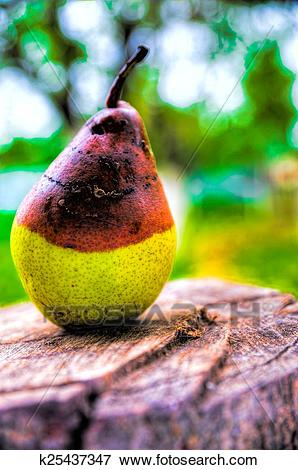damaged_pear: (14, 105, 175, 326)
